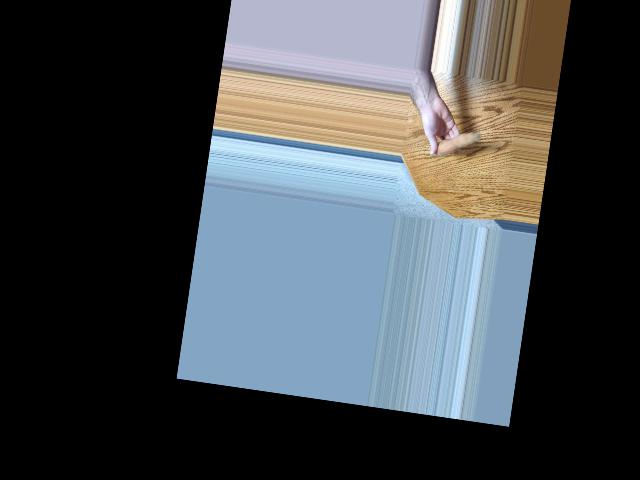sweet_potato: (427, 121, 483, 163)
